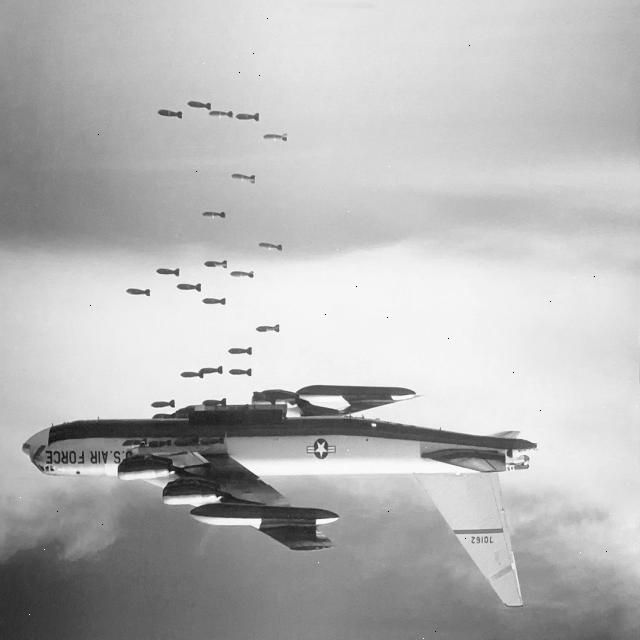B52: (18, 314, 544, 624)
